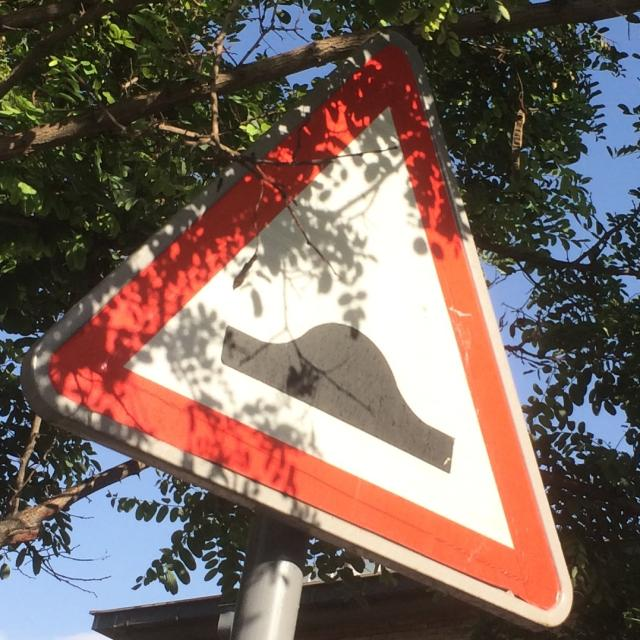HUMP_OR_ROUGH_ROAD: (26, 32, 578, 628)
